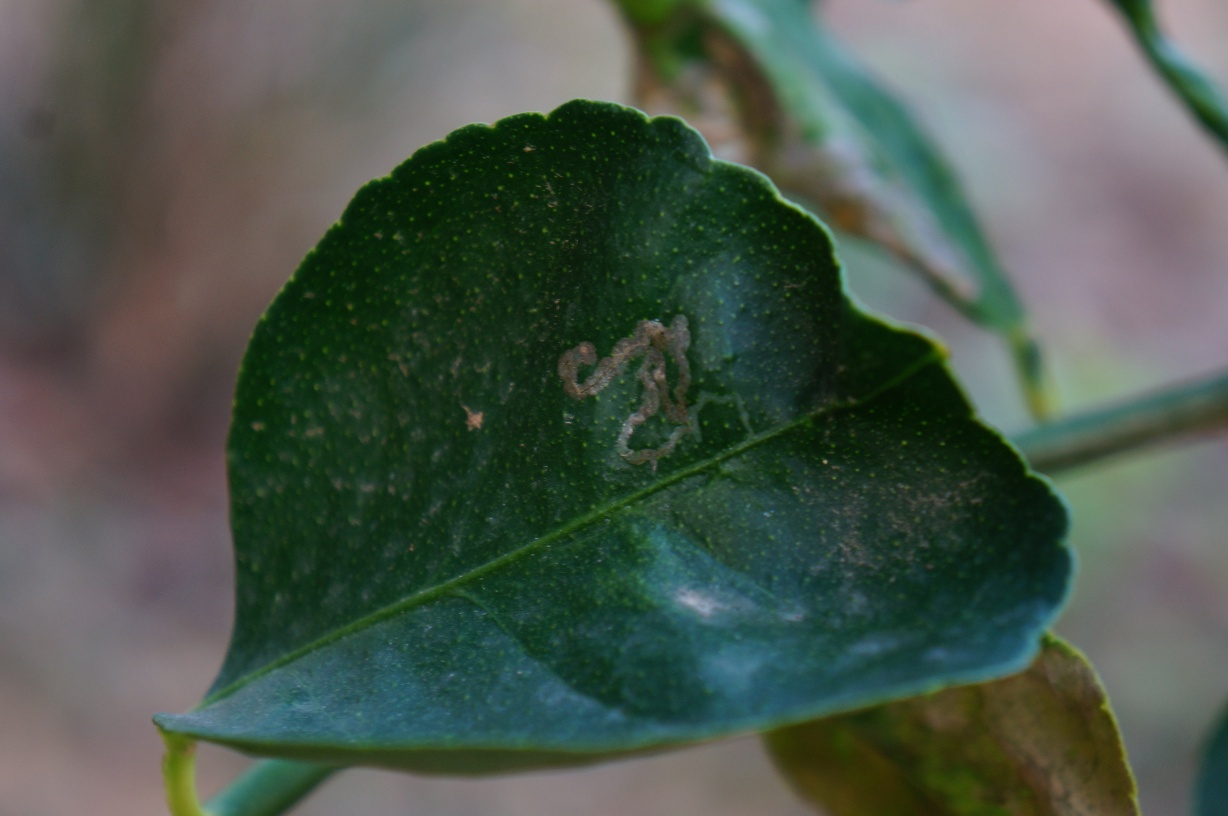damage: (545, 316, 791, 481)
